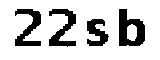2: (45, 5, 80, 51), (10, 6, 43, 51)
b: (116, 3, 149, 54)
s: (84, 17, 109, 49)
